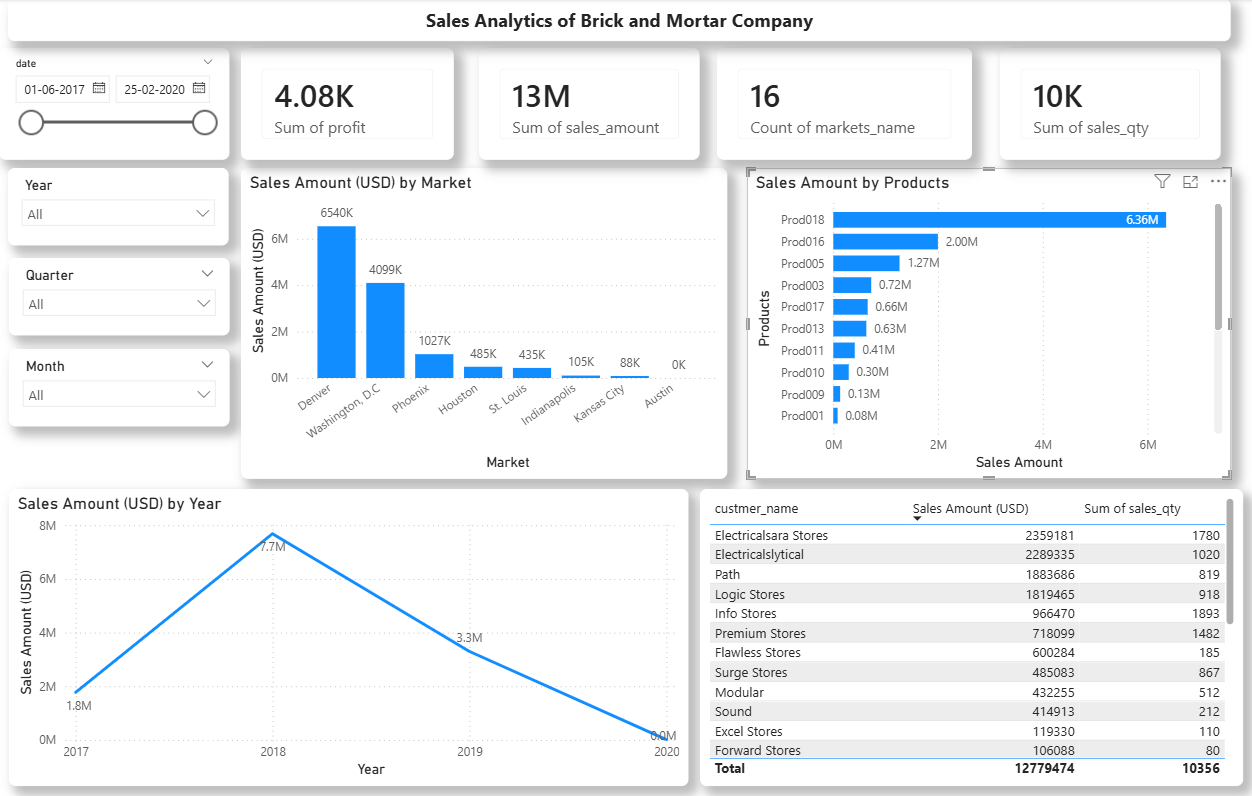

This screenshot's page, from the dashboard's own definition file:
{"tool":"powerbi","page":{"name":"Duplicate of Sales and Profit","canvas":[1280,820],"ordinal":1},"visuals":[{"type":"slicer","fields":{"Values":["date.date"]},"box":[0,50,234.6,114.2],"z":0},{"type":"slicer","fields":{"Values":["date.date.Variation.Date Hierarchy.Year"]},"box":[9.2,172.4,225.4,78.5],"z":1000},{"type":"slicer","fields":{"Values":["date.date.Variation.Date Hierarchy.Quarter"]},"box":[10.2,264.2,225.4,78.5],"z":2000},{"type":"slicer","fields":{"Values":["date.date.Variation.Date Hierarchy.Month"]},"box":[10.2,357,225.4,78.5],"z":3000},{"type":"clusteredColumnChart","fields":{"Category":["markets.markets_name"],"Y":["Sum(transactions.sales_amount)"]},"box":[246.8,172.4,495.7,317.2],"z":4000},{"type":"clusteredBarChart","fields":{"Category":["products.product_code"],"Y":["Sum(transactions.sales_amount)"]},"box":[762.9,172.4,493.6,317.2],"z":5000},{"type":"lineChart","fields":{"Category":["date.date.Variation.Date Hierarchy.Year","date.date.Variation.Date Hierarchy.Quarter","date.date.Variation.Date Hierarchy.Month"],"Y":["Sum(transactions.sales_amount)"]},"box":[10.2,499.8,692.5,302.9],"z":6000},{"type":"tableEx","fields":{"Values":["customers.custmer_name","Sum(transactions.sales_amount)","Sum(transactions.sales_qty)"]},"box":[715,499.8,553.8,302.9],"z":7000},{"type":"cardVisual","fields":{"Data":["Sum(transactions.profit)"]},"box":[246.8,50,217.2,114.2],"z":8000},{"type":"cardVisual","fields":{"Data":["Sum(transactions.sales_amount)"]},"box":[489.6,50,225.4,114.2],"z":9000},{"type":"cardVisual","fields":{"Data":["Sum(transactions.sales_qty)"]},"box":[1020.9,50,225.4,114.2],"z":10000},{"type":"cardVisual","fields":{"Data":["Count(markets.markets_name)"]},"box":[732.3,50,260.1,114.2],"z":11000},{"type":"textbox","box":[9.2,0,1247.3,42.8],"z":12000}]}

Visuals, with their boxes in screenshot pixels (x1, y1, x2, y2), scaled from the page's 1280x820 canvas onto the 1252x796 screenshot:
slicer - date.date: 0,49,229,159
slicer - date.date.Variation.Date Hierarchy.Year: 9,167,229,244
slicer - date.date.Variation.Date Hierarchy.Quarter: 10,256,230,333
slicer - date.date.Variation.Date Hierarchy.Month: 10,347,230,423
clusteredColumnChart - markets.markets_name x Sum(transactions.sales_amount): 241,167,726,475
clusteredBarChart - products.product_code x Sum(transactions.sales_amount): 746,167,1229,475
lineChart - date.date.Variation.Date Hierarchy.Year x date.date.Variation.Date Hierarchy.Quarter: 10,485,687,779
tableEx - customers.custmer_name x Sum(transactions.sales_amount): 699,485,1241,779
cardVisual - Sum(transactions.profit): 241,49,454,159
cardVisual - Sum(transactions.sales_amount): 479,49,699,159
cardVisual - Sum(transactions.sales_qty): 999,49,1219,159
cardVisual - Count(markets.markets_name): 716,49,971,159
textbox: 9,0,1229,42
